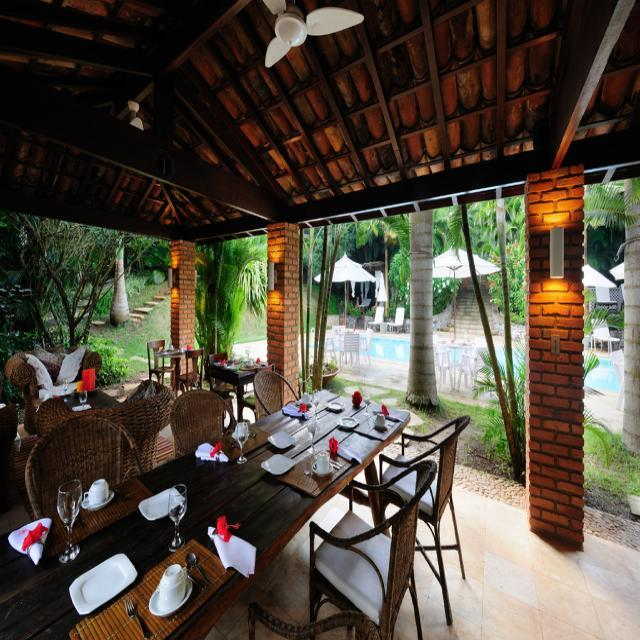fan_off: (254, 0, 370, 69), (122, 102, 154, 132)
